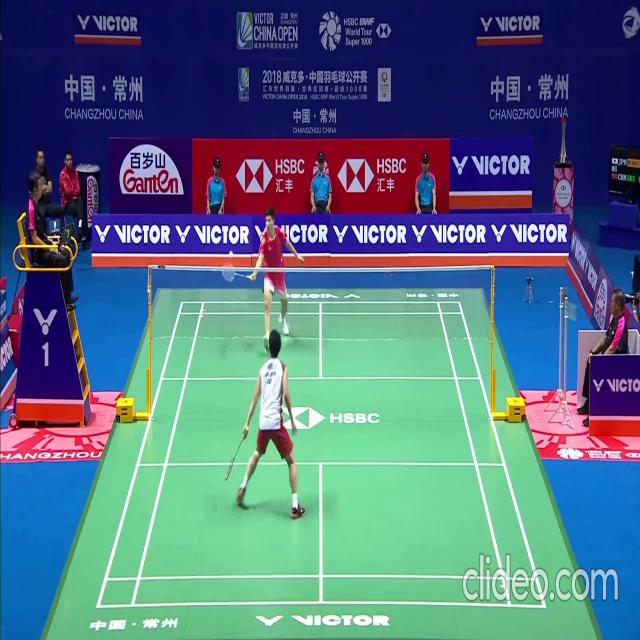Shuttlecock: (229, 250, 233, 258)
